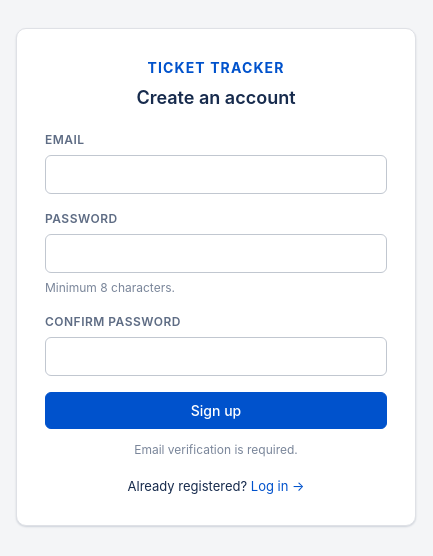
SignupPage › shows a mismatch error when confirm does not match
In the field labelled "Email": (216, 175) [45,155,387,194], type "alex@dataart.com"
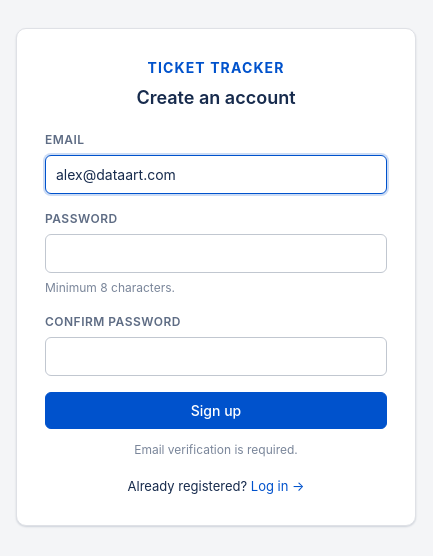
In the password field labelled "Password": (216, 254) [45,234,387,273], type "correct horse battery"
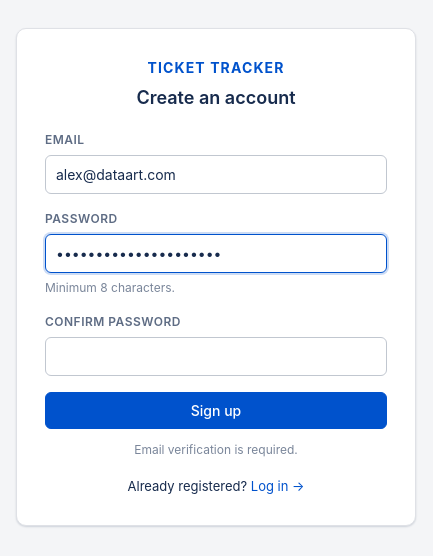
In the password field labelled "Confirm password": (216, 357) [45,337,387,376], type "different value!!"
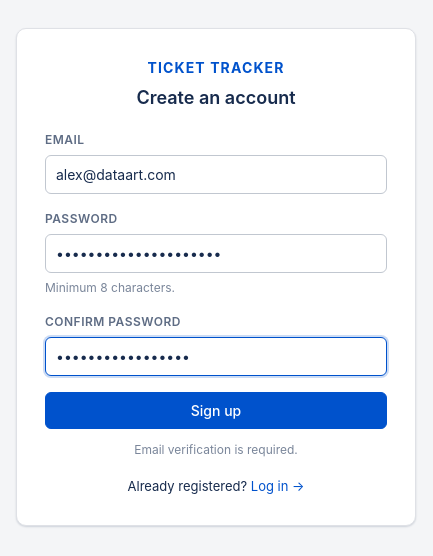
Click the button "Sign up": (216, 411) [45,392,387,429]
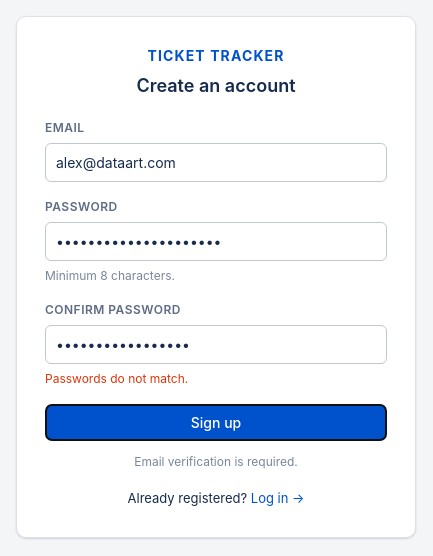
Check: the text "Passwords do not match." is shown, box [45,371,188,386]
